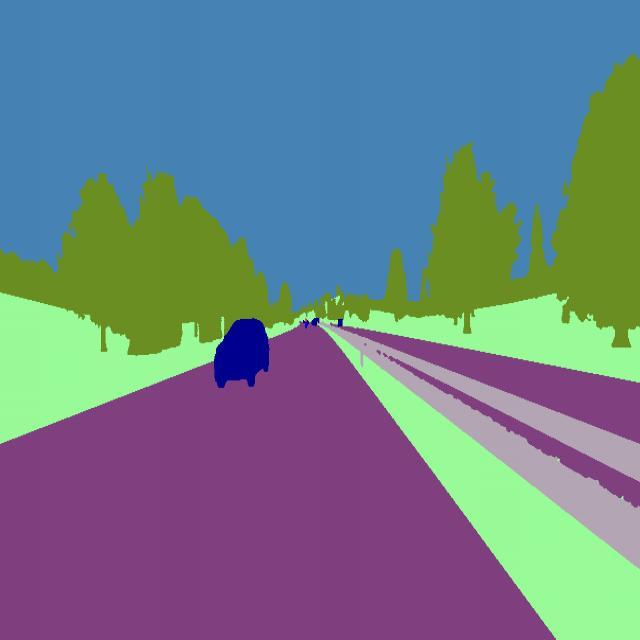safe: (212, 312, 272, 390)
